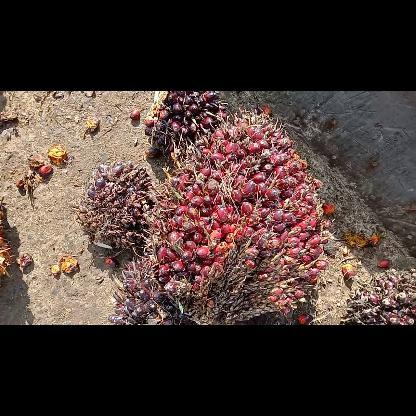TBS abnormal: (81, 166, 149, 256), (142, 91, 224, 159), (116, 260, 168, 324)
TBS masak: (160, 110, 328, 324)
